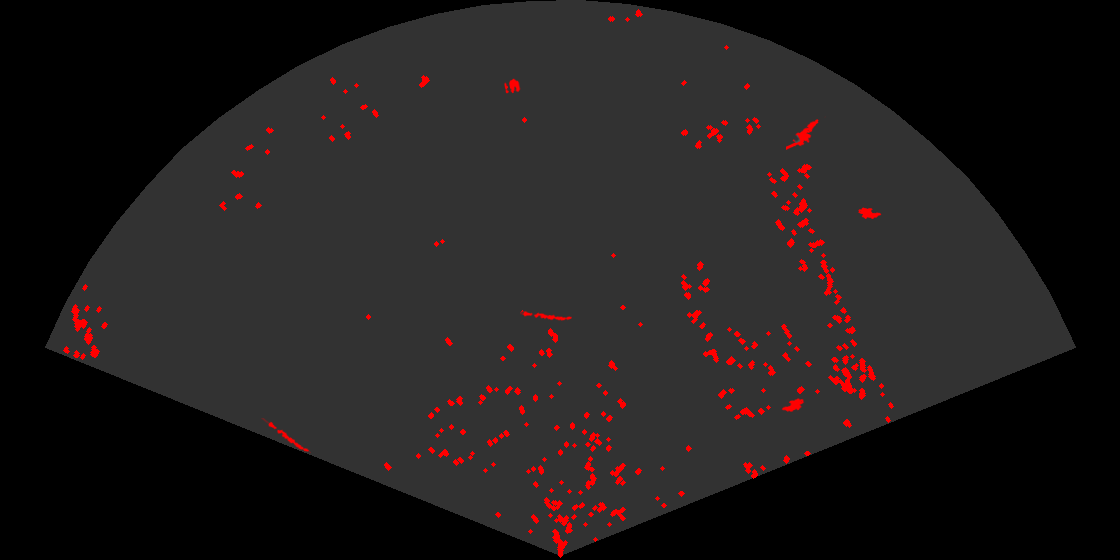AUV: (780, 396, 806, 413), (857, 206, 883, 220)
ball: (503, 77, 522, 95)
chain: (261, 418, 311, 455), (520, 310, 572, 322)
frogman: (786, 116, 826, 151)
